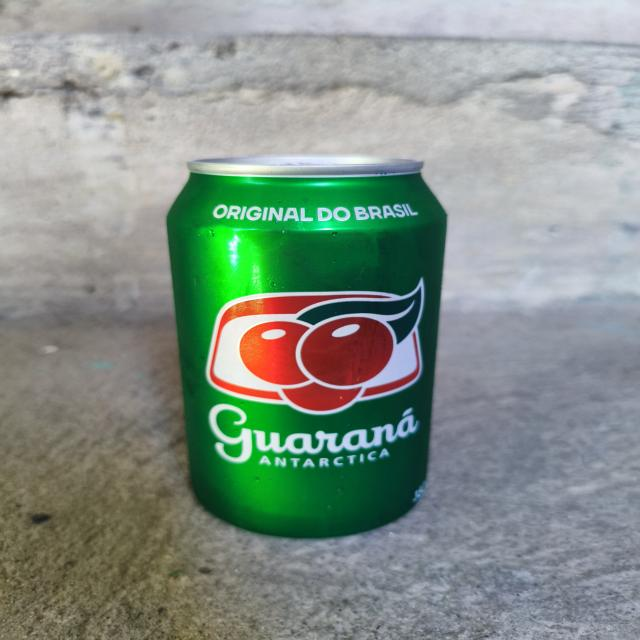Guarana: (153, 140, 463, 546)
